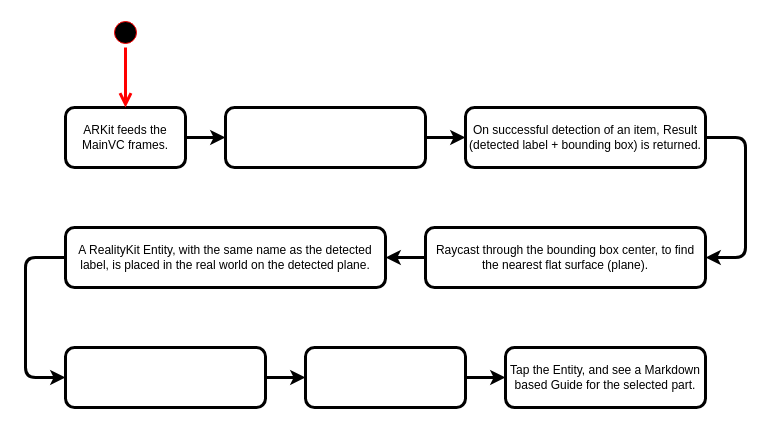
Image size: 772x426. Some labels were removed from this diagram. The box of each missing label's shape, as (x1, y1, x2, y2) in pixels:
Configure the placed Entity to always face the camera: (64, 346, 266, 408)
The Entity has_collision, which allows up to tap it: (304, 346, 466, 408)
The frame is processed by the Detector (wrapped Vision): (224, 106, 426, 168)
